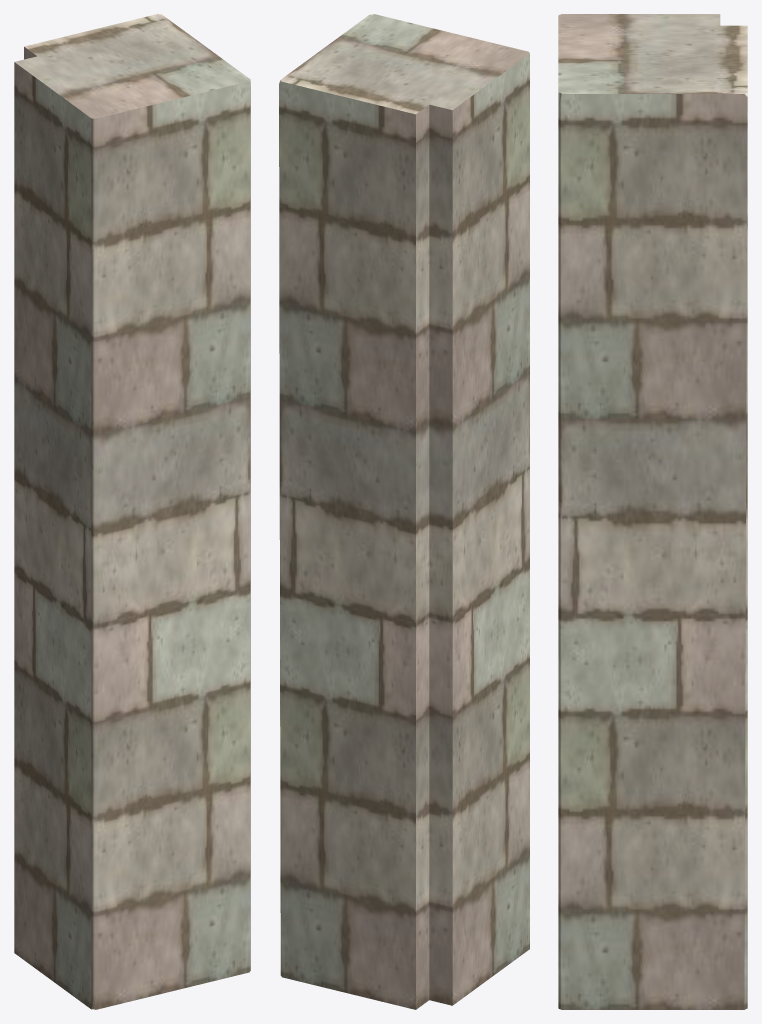
File: corner.glb
The picture shows the model from 3 angles, left to right: view 1: azimuth 30°, elevation 25°; view 2: azimuth 150°, elevation 25°; view 3: azimuth 270°, elevation 25°; orthographic projection. The views are drawn at different scales.
Visible parts, largest first — view 1: corner_stone; view 2: corner_stone; view 3: corner_stone.
Part boxes in pixels (bbox=[...]): corner_stone: bbox=[14, 14, 250, 1009]; corner_stone: bbox=[279, 14, 529, 1009]; corner_stone: bbox=[558, 14, 747, 1009].
Bounding box in the file's own units: 0.58 × 3.1 × 0.58.
1 material, 1 textured.
